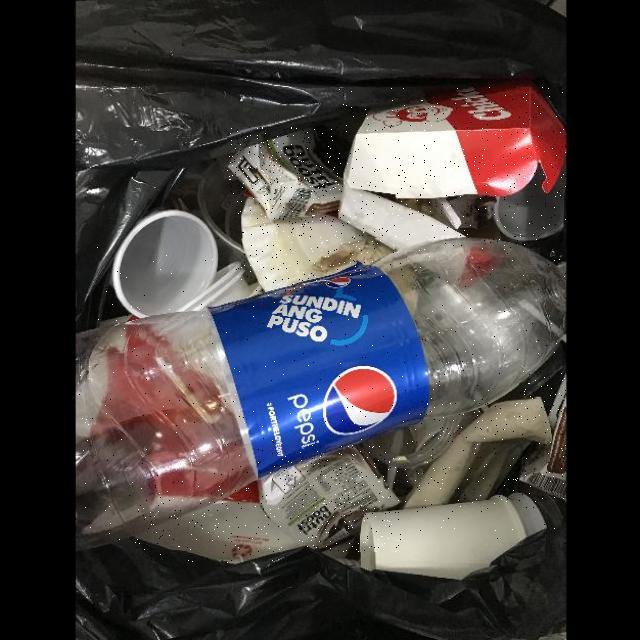paper: (339, 88, 566, 250), (402, 398, 553, 509), (259, 444, 401, 552), (135, 481, 300, 564), (242, 198, 365, 292), (228, 127, 343, 220), (520, 374, 566, 502), (312, 239, 395, 276)
plastic: (76, 239, 566, 540)
